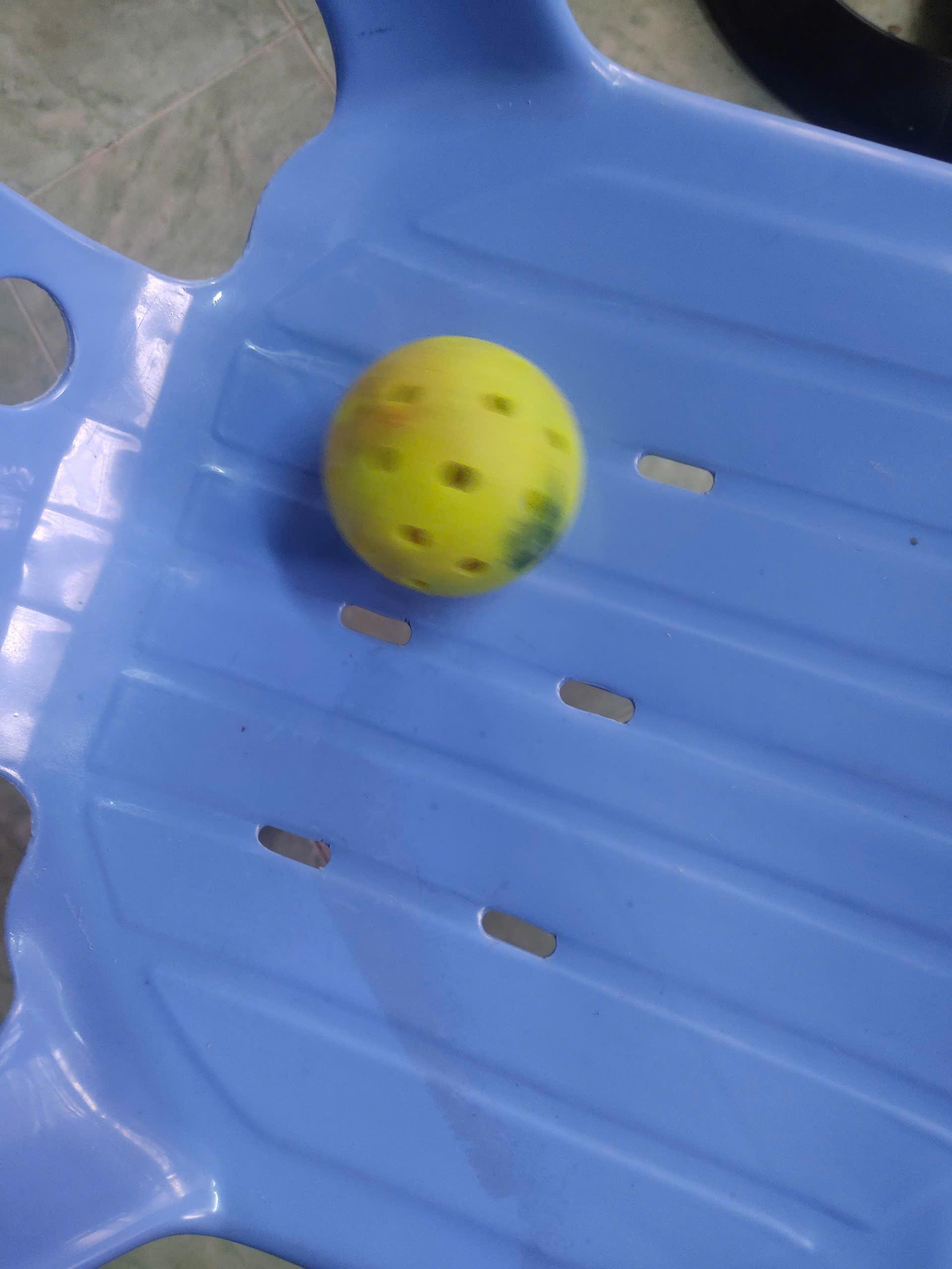ball: (302, 318, 596, 607)
